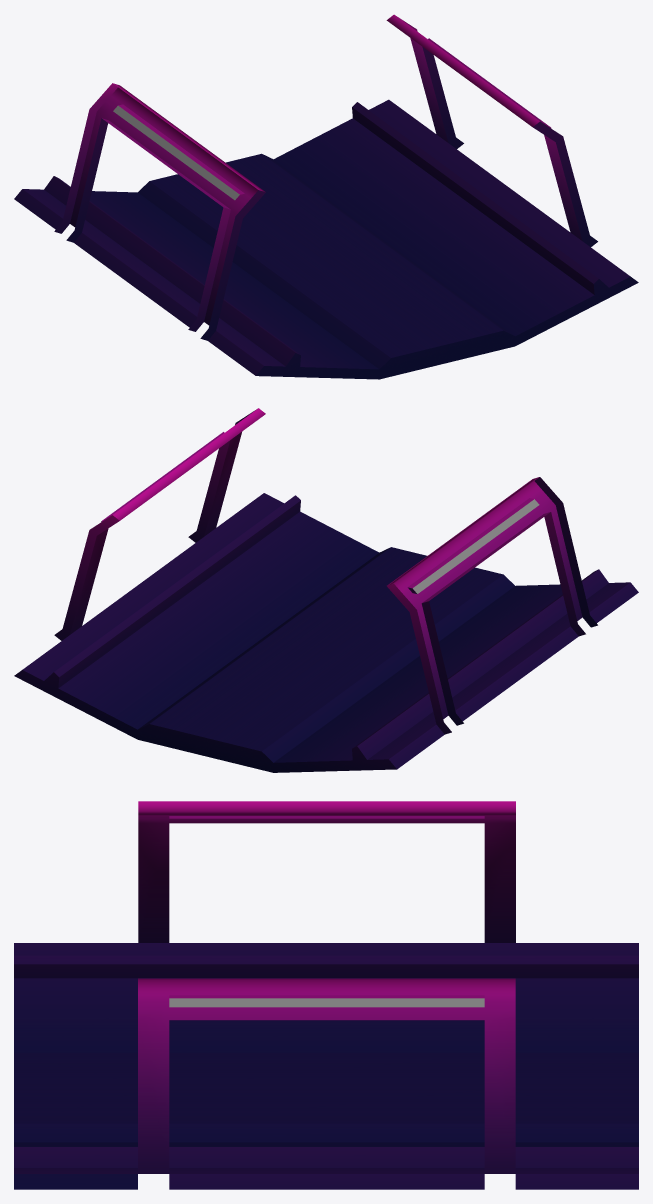
Rendered from inner_tonnel_003.fbx.
The picture shows the model from 3 angles, top to bottom: view 1: azimuth 30°, elevation 25°; view 2: azimuth 150°, elevation 25°; view 3: azimuth 270°, elevation 25°; orthographic projection. The views are drawn at different scales.
Parts seen in each view (by area): view 1: inner_tonnel_003; view 2: inner_tonnel_003; view 3: inner_tonnel_003.
Part boxes in pixels (x1,y1,x2,y2): inner_tonnel_003: [14, 14, 638, 379]; inner_tonnel_003: [14, 408, 638, 772]; inner_tonnel_003: [14, 801, 638, 1189].
Bounding box in the file's own units: 8.81 × 3.64 × 9.26.
